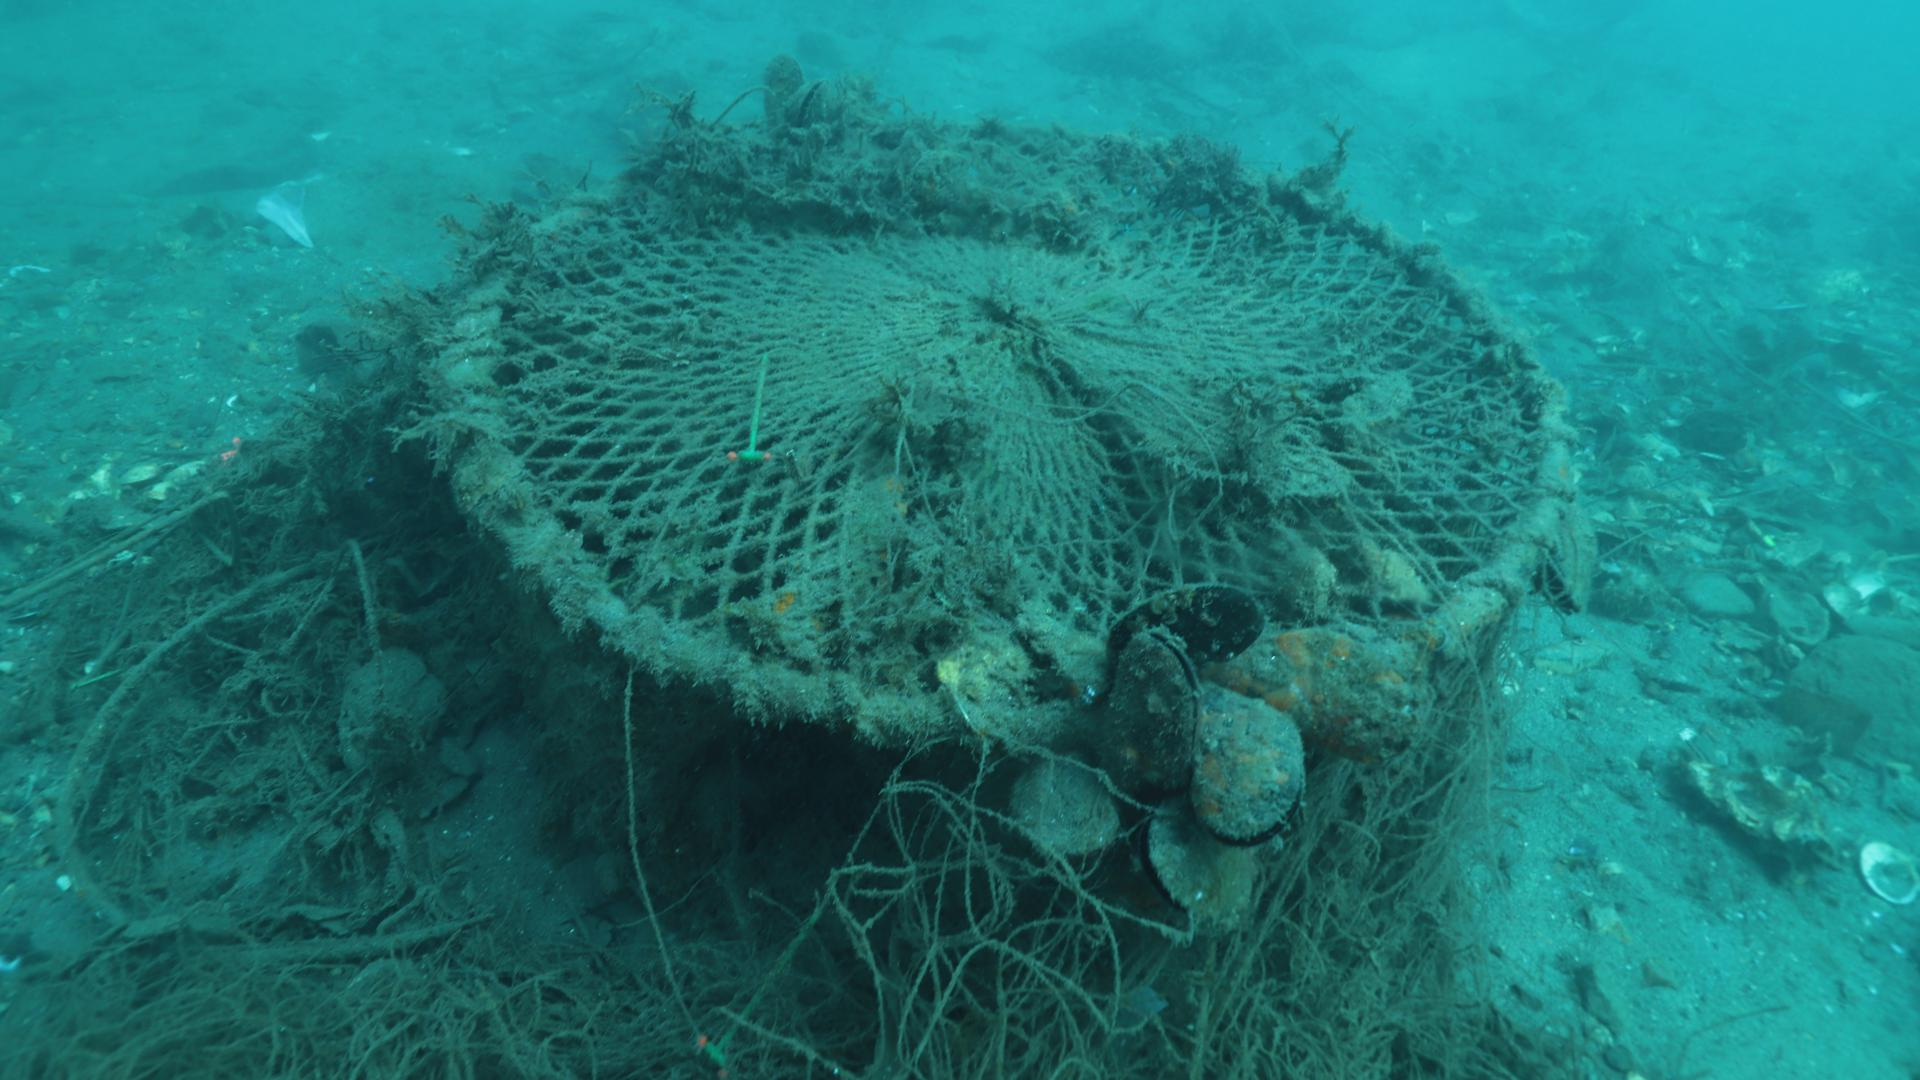circular fish trap: (436, 115, 1575, 749)
